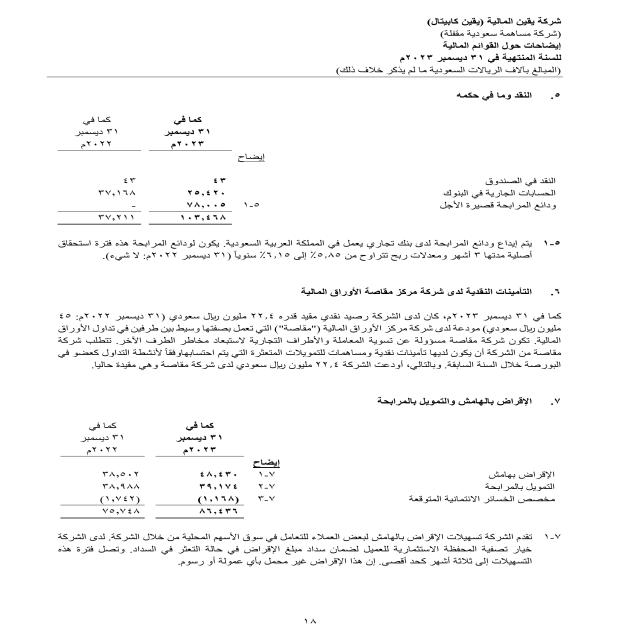notes: (435, 40, 566, 51)
table: (45, 409, 312, 528), (39, 113, 287, 237)
